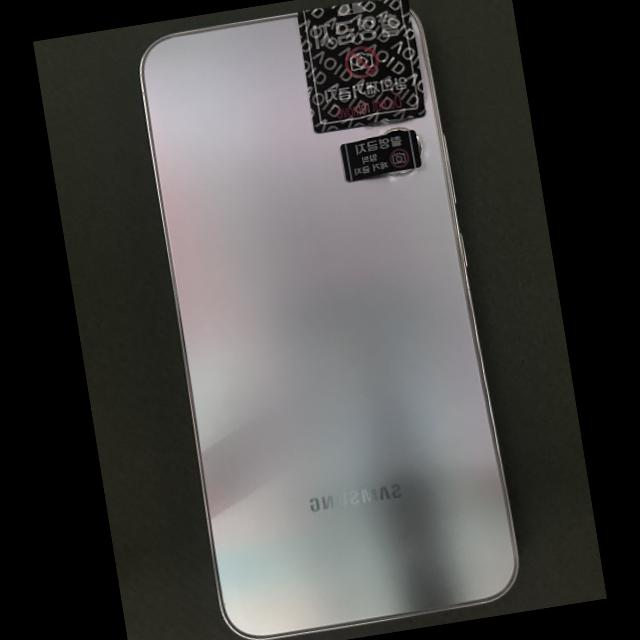lens: (382, 127, 408, 135)
phone: (138, 0, 520, 640)
sticker: (297, 0, 426, 134), (341, 130, 422, 181)
